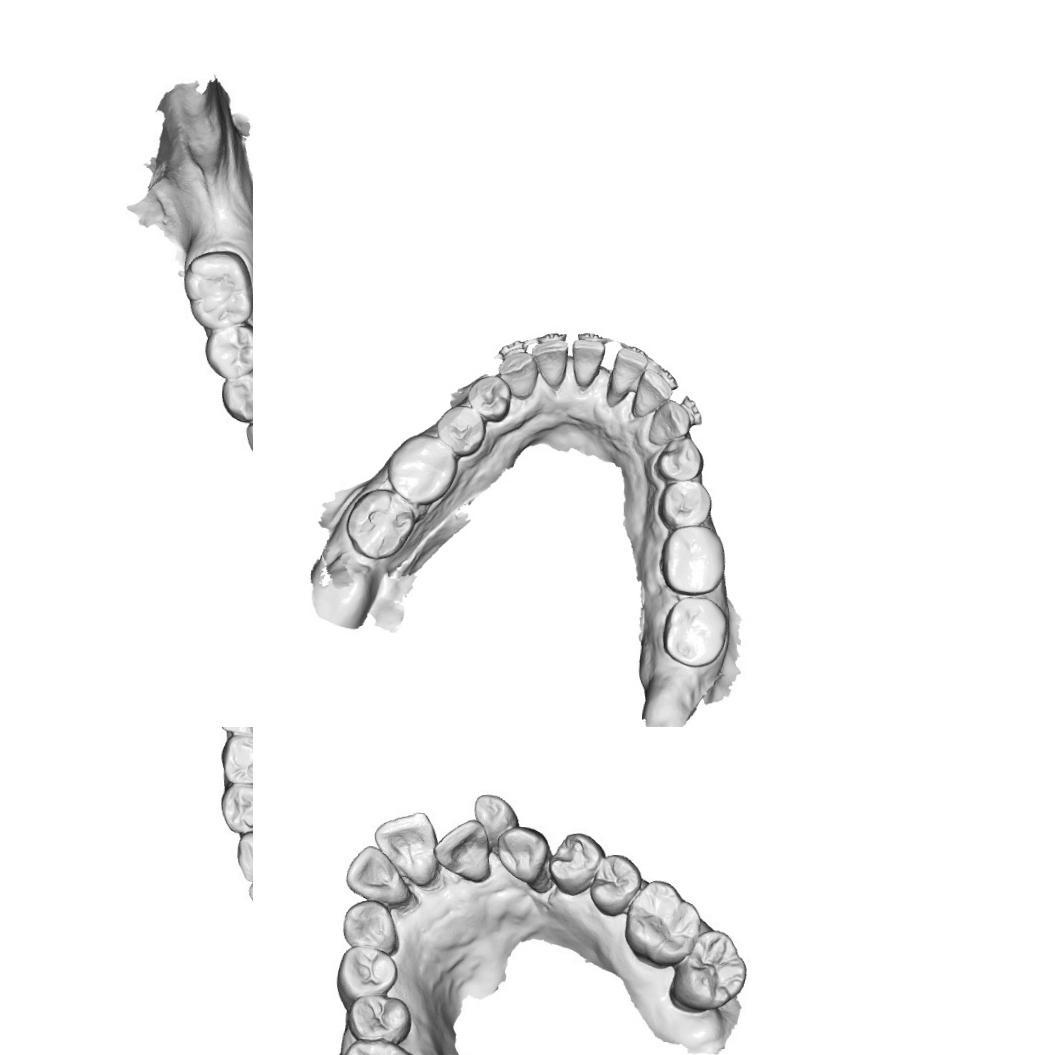canine: (341, 898, 402, 956), (494, 824, 548, 889), (494, 348, 539, 402), (644, 397, 691, 448), (236, 825, 253, 883)
incisor: (370, 805, 442, 888), (341, 840, 418, 908), (440, 823, 498, 885), (467, 787, 520, 839), (629, 367, 674, 420), (608, 344, 650, 398), (528, 336, 570, 388), (568, 336, 607, 390)
molar: (663, 926, 753, 1018), (618, 878, 700, 972), (178, 246, 253, 331), (383, 428, 460, 507), (343, 486, 419, 562), (660, 594, 731, 670), (657, 522, 728, 598)
premolar: (583, 852, 644, 918), (332, 945, 399, 1005), (549, 830, 605, 899), (344, 992, 412, 1042), (432, 401, 488, 458), (655, 478, 714, 532), (200, 320, 253, 379), (652, 433, 706, 485), (464, 372, 514, 424), (217, 366, 253, 424), (217, 777, 253, 830), (221, 734, 253, 778)
